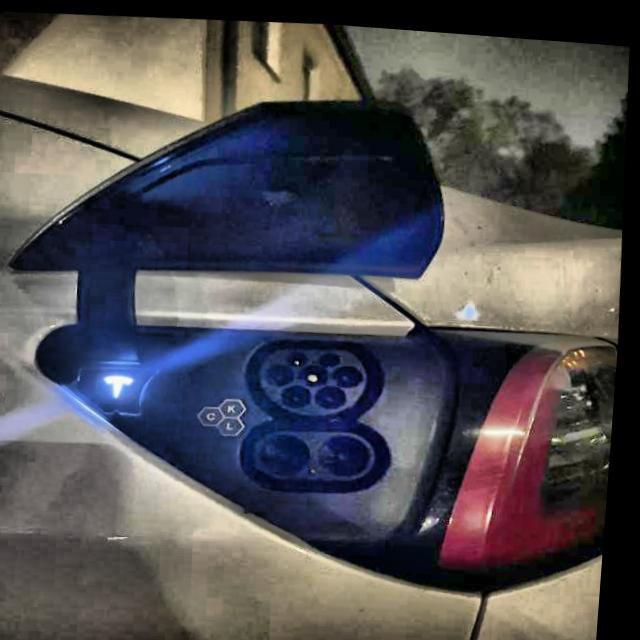inlet: (264, 343, 372, 410)
inlet-above-left: (287, 345, 313, 361)
inlet-above-right: (322, 346, 345, 361)
inlet-below-left: (286, 379, 316, 403)
inlet-below-right: (320, 379, 351, 402)
inlet-center: (303, 359, 333, 380)
inlet-center-left: (270, 359, 299, 381)
inlet-center-right: (337, 360, 367, 381)
